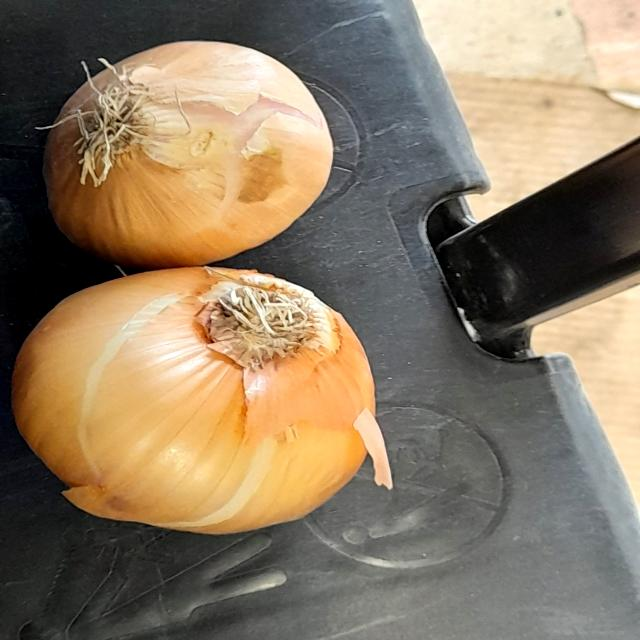onion: (0, 266, 385, 543), (17, 24, 337, 271)
